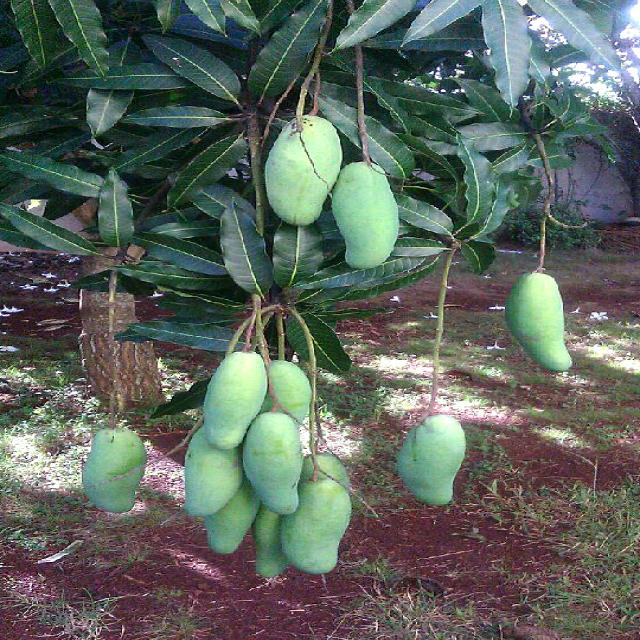mango: (266, 105, 347, 226), (281, 465, 351, 573), (330, 163, 399, 269), (502, 272, 570, 370), (241, 412, 304, 516), (396, 413, 466, 506), (200, 353, 266, 447), (82, 425, 146, 514), (182, 427, 243, 517), (265, 360, 311, 426)
